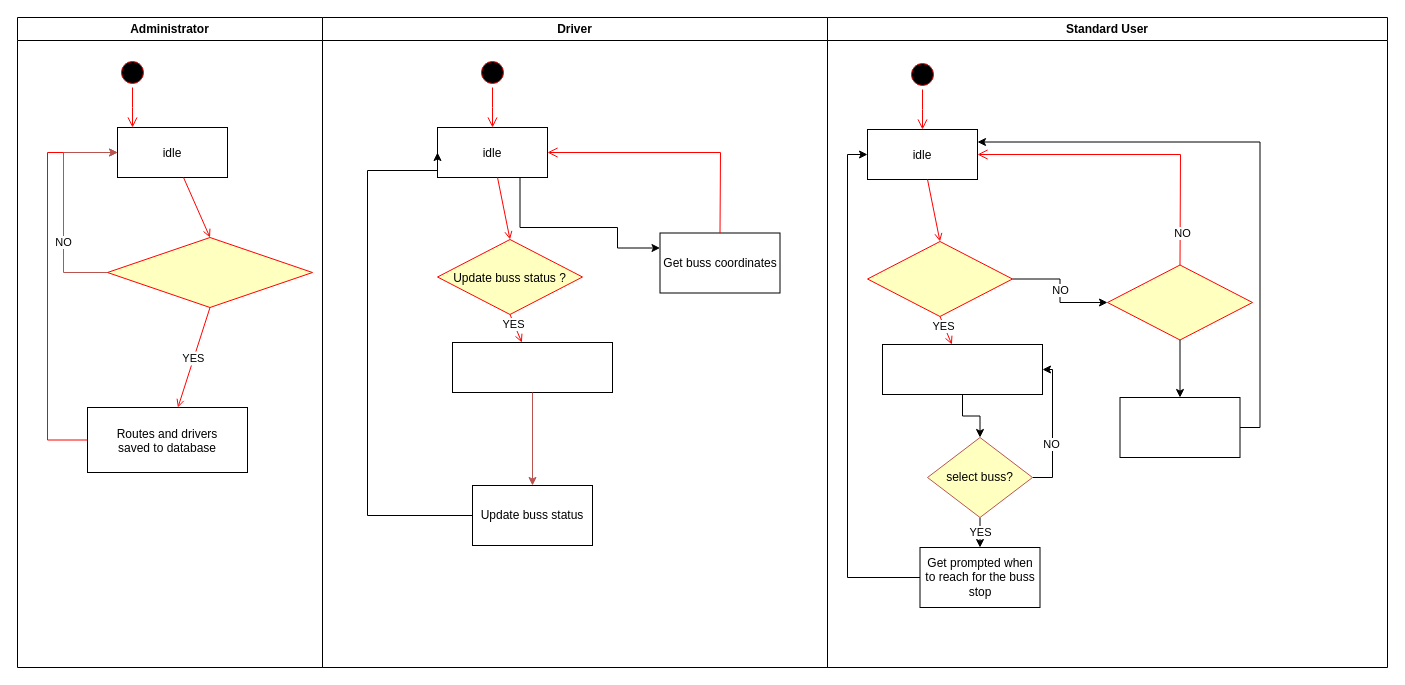
Some shapes in this 1405 by 685 pixel diagram are drawn without their labels. The centre of each missing label's shape, as x and y in pixels:
Acces buss data and display waiting time for each: point 962,369
Check buss stop?: point 939,278
Create route / create drivers?: point 209,272
Create thread for updating buss status: point 532,367
see routes?: point 1179,302
See selected route on map: point 1179,427
